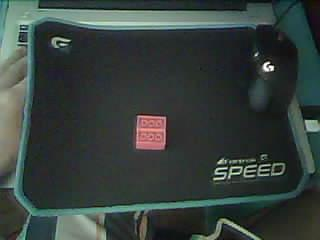lego: (135, 115, 167, 149)
